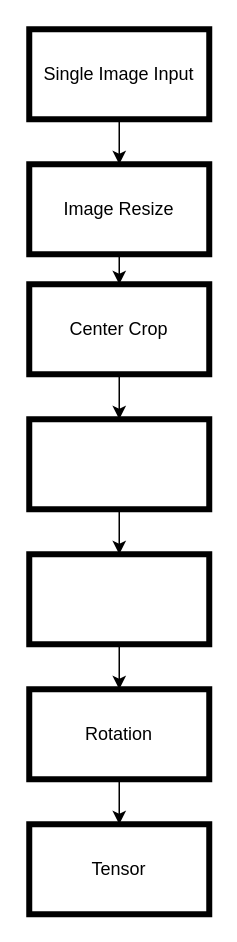
The diagram is 237 pixels wide and 942 high, and some of its shapes have lost their labels. The shapes that lost their labels are listed below. From the top down, each one's centre as x and y in pixels, then its label:
At pixel 119 464: "Horizontal Flip".
At pixel 119 598: "Vertical Flip".
